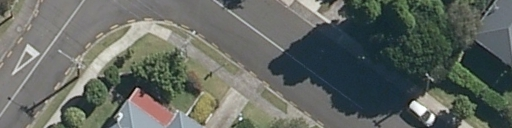DT: (423, 71, 434, 98)
